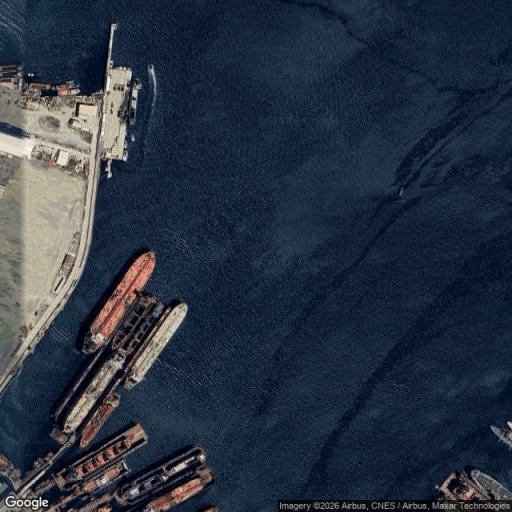ship: (83, 252, 155, 353), (54, 424, 147, 488), (124, 304, 187, 389), (116, 448, 206, 505), (63, 352, 125, 433), (144, 468, 214, 511), (120, 302, 165, 356), (112, 295, 155, 350), (80, 392, 119, 448), (80, 460, 129, 493), (471, 471, 511, 500), (127, 79, 142, 128), (492, 425, 511, 446), (1, 64, 22, 75), (0, 454, 13, 471), (57, 88, 80, 95), (57, 83, 80, 90), (1, 76, 21, 83), (30, 84, 53, 90), (200, 507, 218, 511), (123, 149, 129, 161), (129, 133, 135, 142), (124, 140, 127, 148)
